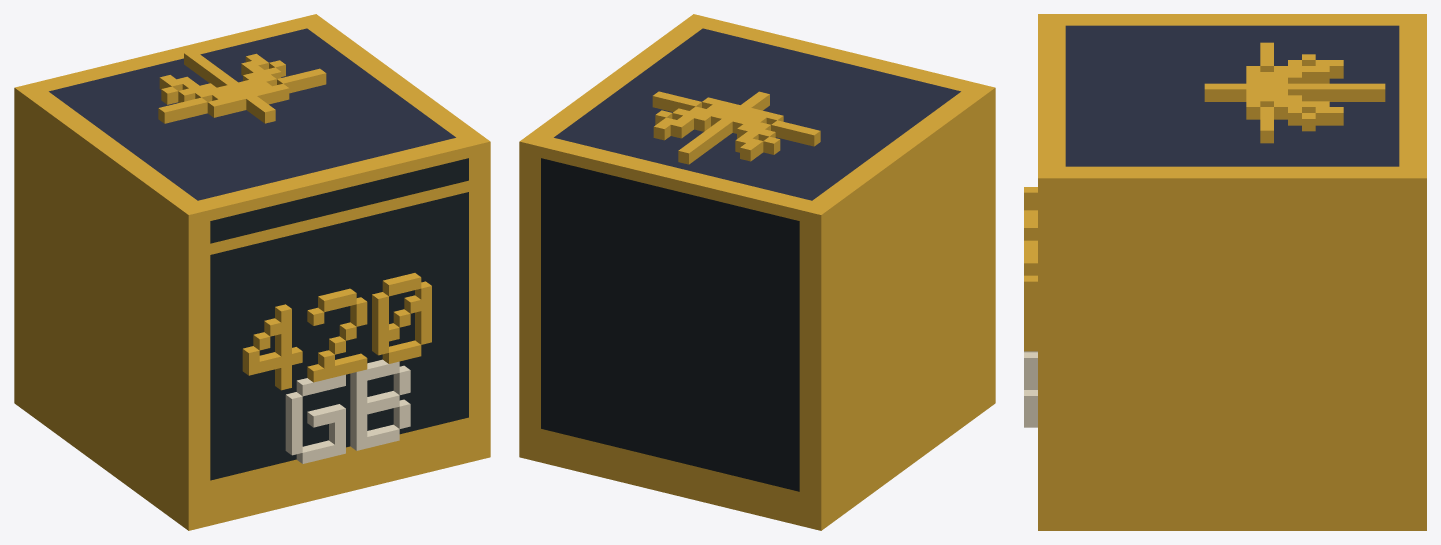
File: mystery_420_founder.glb
3 renders of one model, left to right at view 1: azimuth 30°, elevation 25°; view 2: azimuth 150°, elevation 25°; view 3: azimuth 270°, elevation 25°, orthographic. The views are drawn at different scales.
Visible parts, largest first — view 1: mystery_420_founder; view 2: mystery_420_founder; view 3: mystery_420_founder.
Part boxes in pixels (left/top/right/bottom): mystery_420_founder: left=14, top=14, right=490, bottom=530; mystery_420_founder: left=519, top=14, right=995, bottom=530; mystery_420_founder: left=1024, top=14, right=1426, bottom=530.
Bounding box in the file's own units: 1.4 × 1.45 × 1.45.
1 material, 1 textured.
